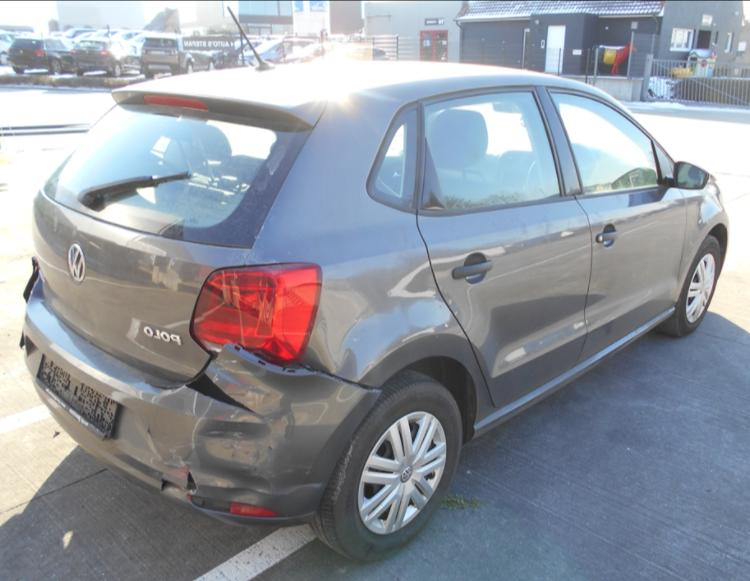Broken part: (19, 256, 382, 529), (187, 280, 218, 377)
Dent: (310, 270, 426, 385)
Missing part: (37, 354, 114, 435)
